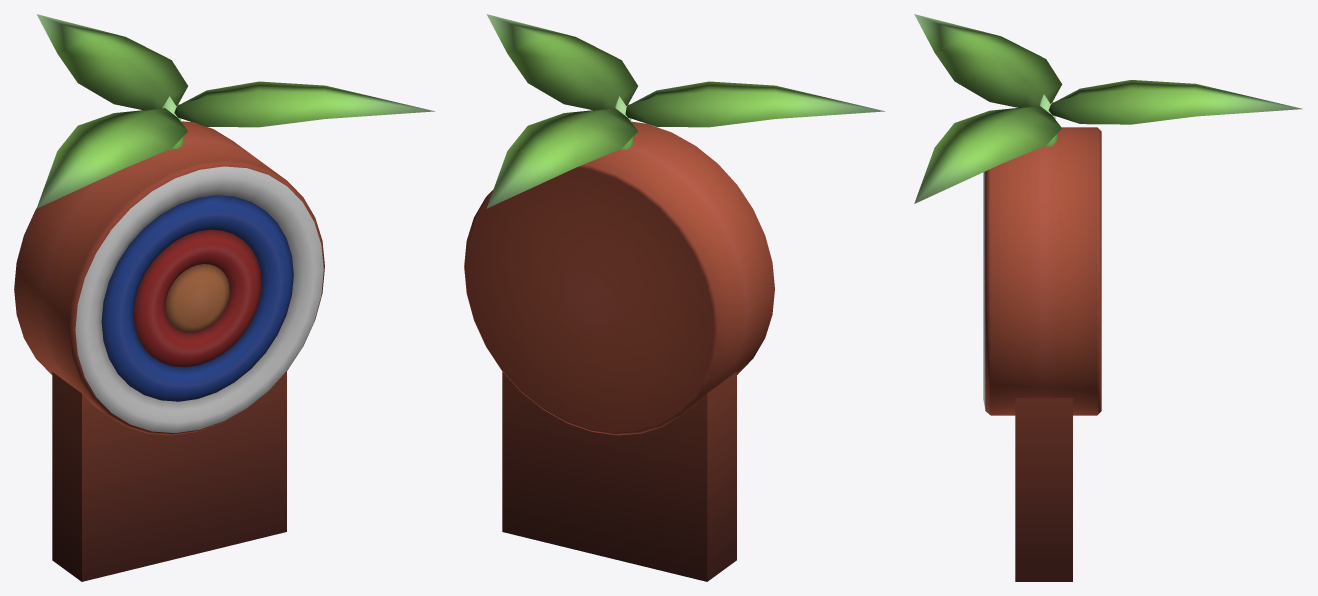
The model's file is Target.fbx.
3 renders of one model, left to right at view 1: azimuth 30°, elevation 25°; view 2: azimuth 150°, elevation 25°; view 3: azimuth 270°, elevation 25°, orthographic. The views are drawn at different scales.
Visible parts, largest first — view 1: Target, TargetStand, Propeller; view 2: Target, TargetStand, Propeller; view 3: Target, Propeller, TargetStand.
Part boxes in pixels (bbox=[...]): Target: bbox=[14, 121, 324, 435]; TargetStand: bbox=[52, 371, 286, 581]; Propeller: bbox=[36, 14, 434, 208]; Target: bbox=[464, 121, 774, 435]; TargetStand: bbox=[502, 371, 736, 581]; Propeller: bbox=[486, 14, 884, 208]; Target: bbox=[983, 127, 1101, 415]; Propeller: bbox=[914, 14, 1302, 203]; TargetStand: bbox=[1015, 398, 1072, 581].
Size of what is drawn, in the model's own units: 1.56 by 1.69 by 1.35.
